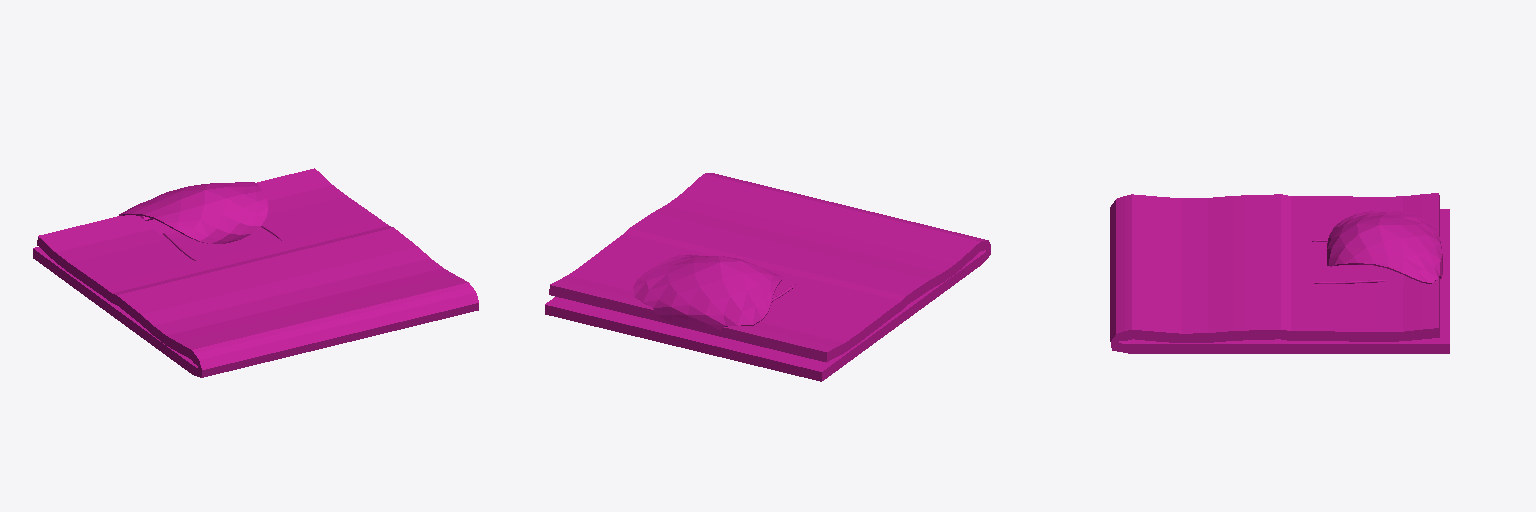
The model's file is hoodie.obj.
The picture shows the model from 3 angles: view 1: azimuth 30°, elevation 25°; view 2: azimuth 150°, elevation 25°; view 3: azimuth 270°, elevation 25°; orthographic projection.
Parts seen in each view (by area): view 1: hoodie; view 2: hoodie; view 3: hoodie.
Boxes of the visible parts, x1,y1,x2,y2 form: hoodie: [33, 168, 478, 377]; hoodie: [545, 173, 990, 381]; hoodie: [1110, 193, 1449, 353].
Bounding box in the file's own units: 2 × 0.4149 × 2.12.